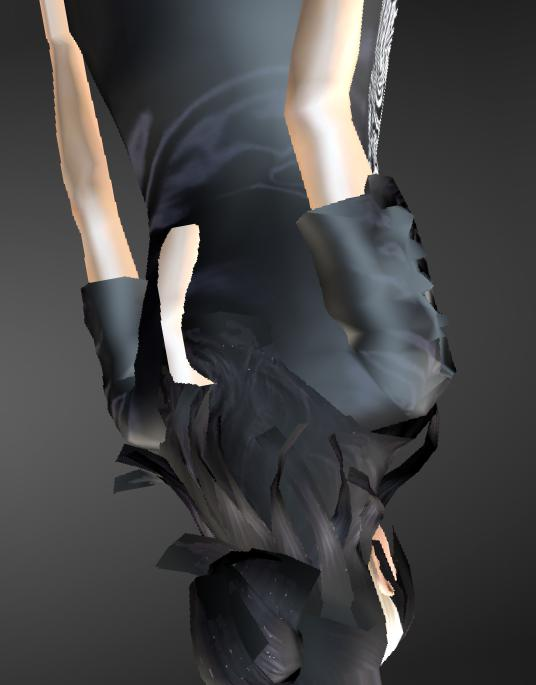clip: (154, 218, 214, 392)
